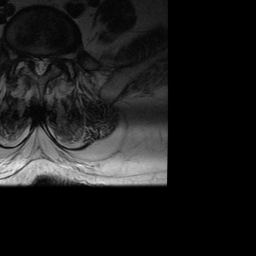CCS_normal: (37, 50, 44, 81)
LFS_stenosis: (51, 45, 58, 71)
LLS_stenosis: (44, 50, 51, 73)
RFS_stenosis: (24, 46, 31, 70)
RLS_stenosis: (31, 49, 38, 74)
